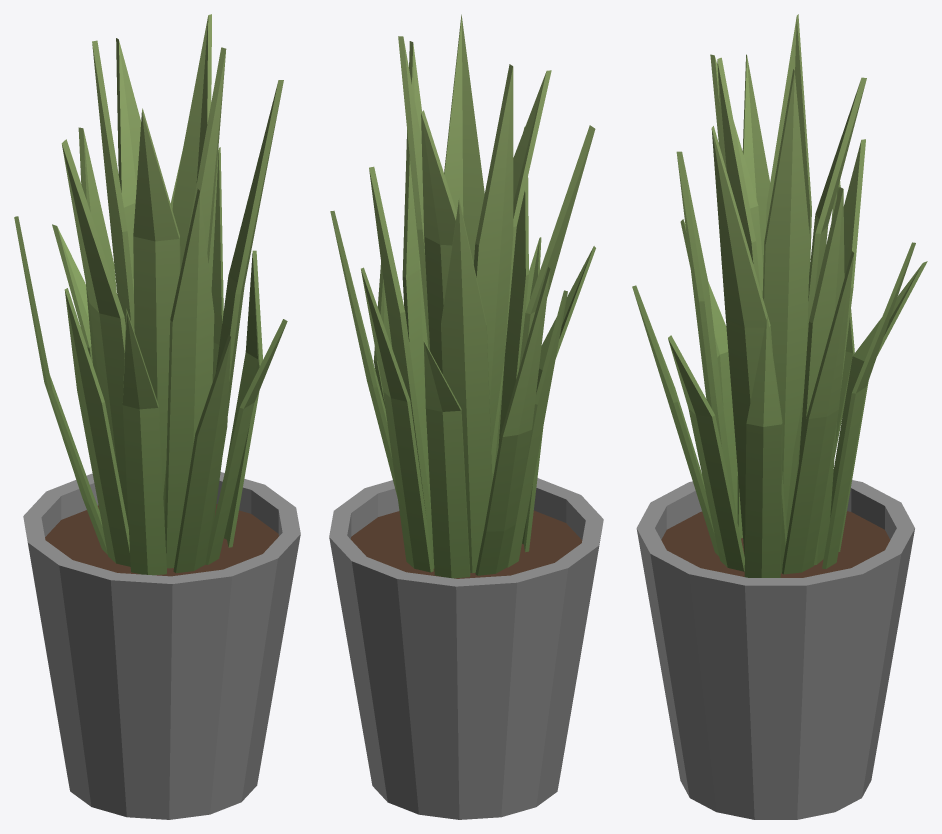
The model's file is Plant_01.fbx.
The picture shows the model from 3 angles, left to right: view 1: azimuth 30°, elevation 25°; view 2: azimuth 150°, elevation 25°; view 3: azimuth 270°, elevation 25°; orthographic projection.
Parts seen in each view (by area): view 1: Plant_01; view 2: Plant_01; view 3: Plant_01.
Part boxes in pixels (x1=…): Plant_01: x1=14, y1=14, x2=300, y2=819; Plant_01: x1=329, y1=14, x2=603, y2=819; Plant_01: x1=632, y1=14, x2=927, y2=819.
Bounding box in the file's own units: 27.2 × 81.62 × 29.62.
